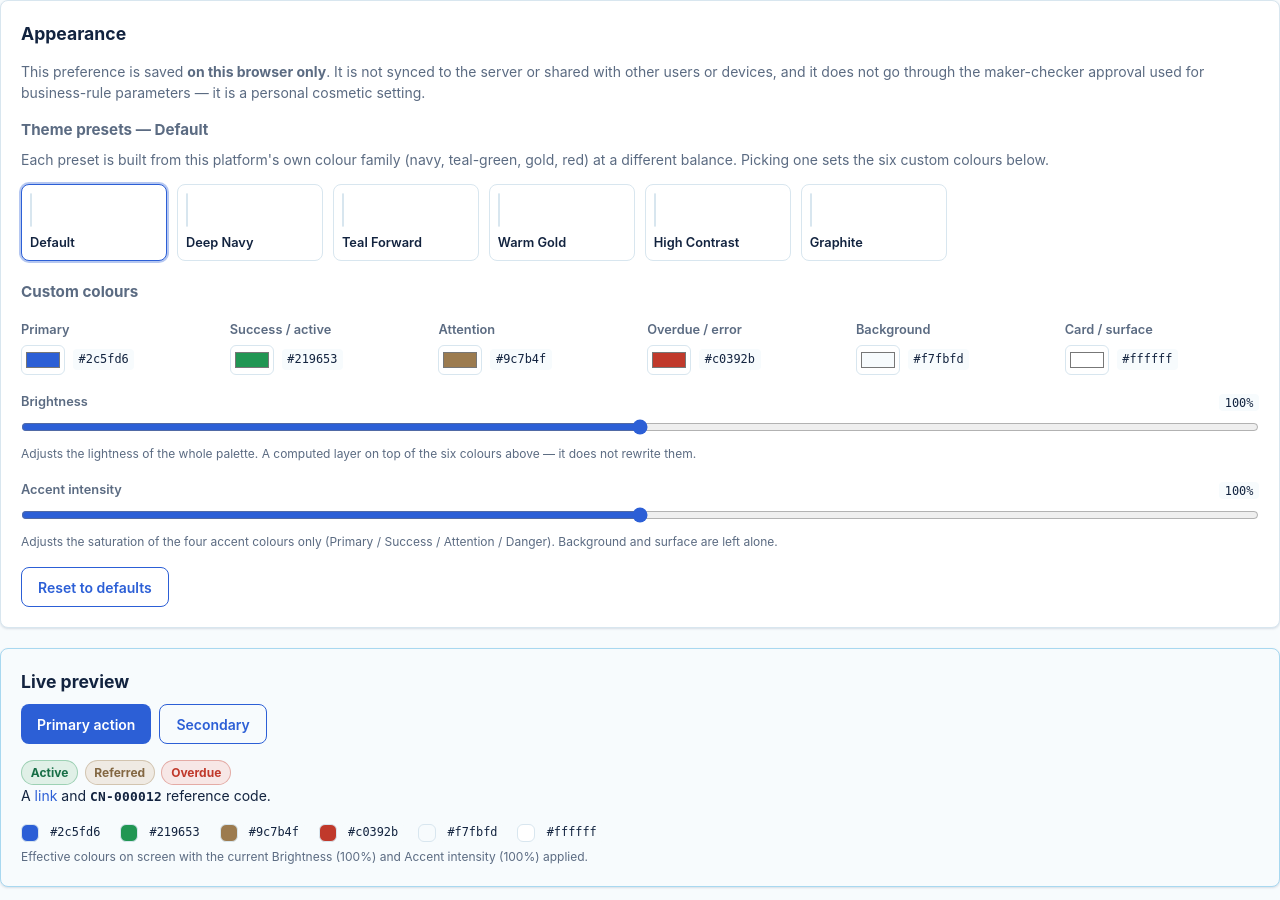
it: Step 17 — persistence & reset › Reset to defaults restores the Default preset AND both sliders to 100%
Click the radio button with test id "preset-warm-gold" at (562, 222), box [489, 184, 635, 261]
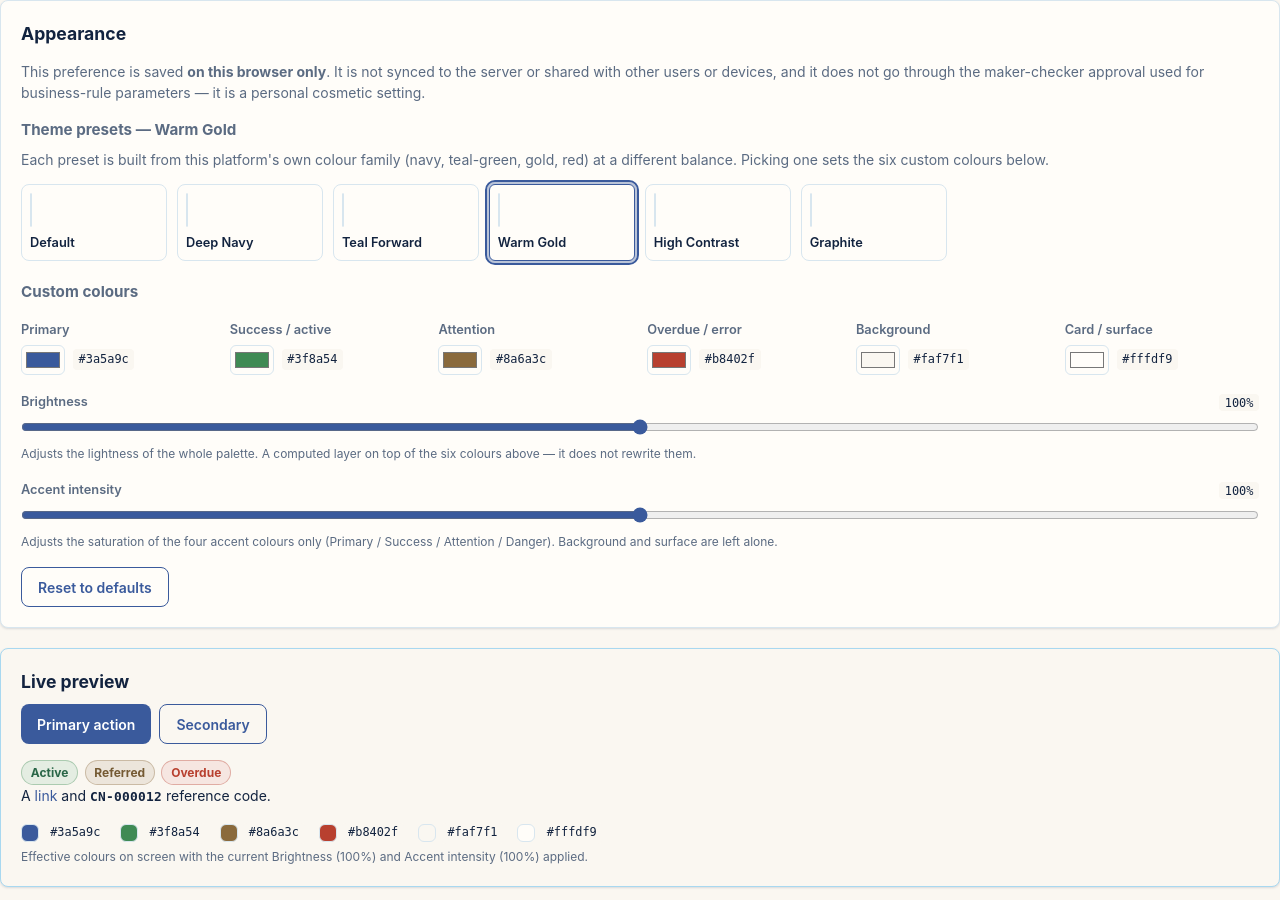
Set the slider with test id "appearance-brightness" to "80" at (233, 427), box [21, 419, 1259, 435]
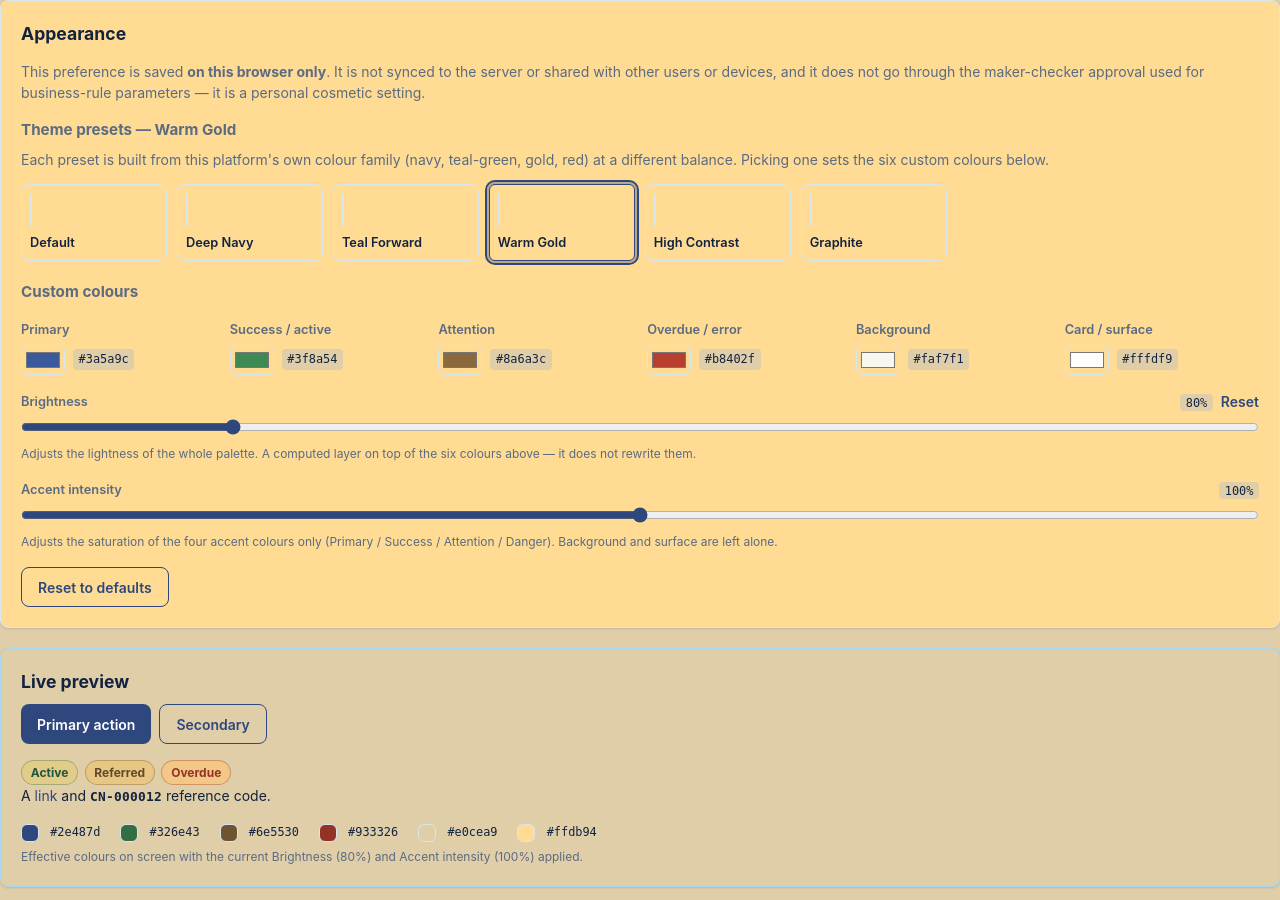
Set the slider with test id "appearance-accent-intensity" to "130" at (1098, 515), box [21, 507, 1259, 523]
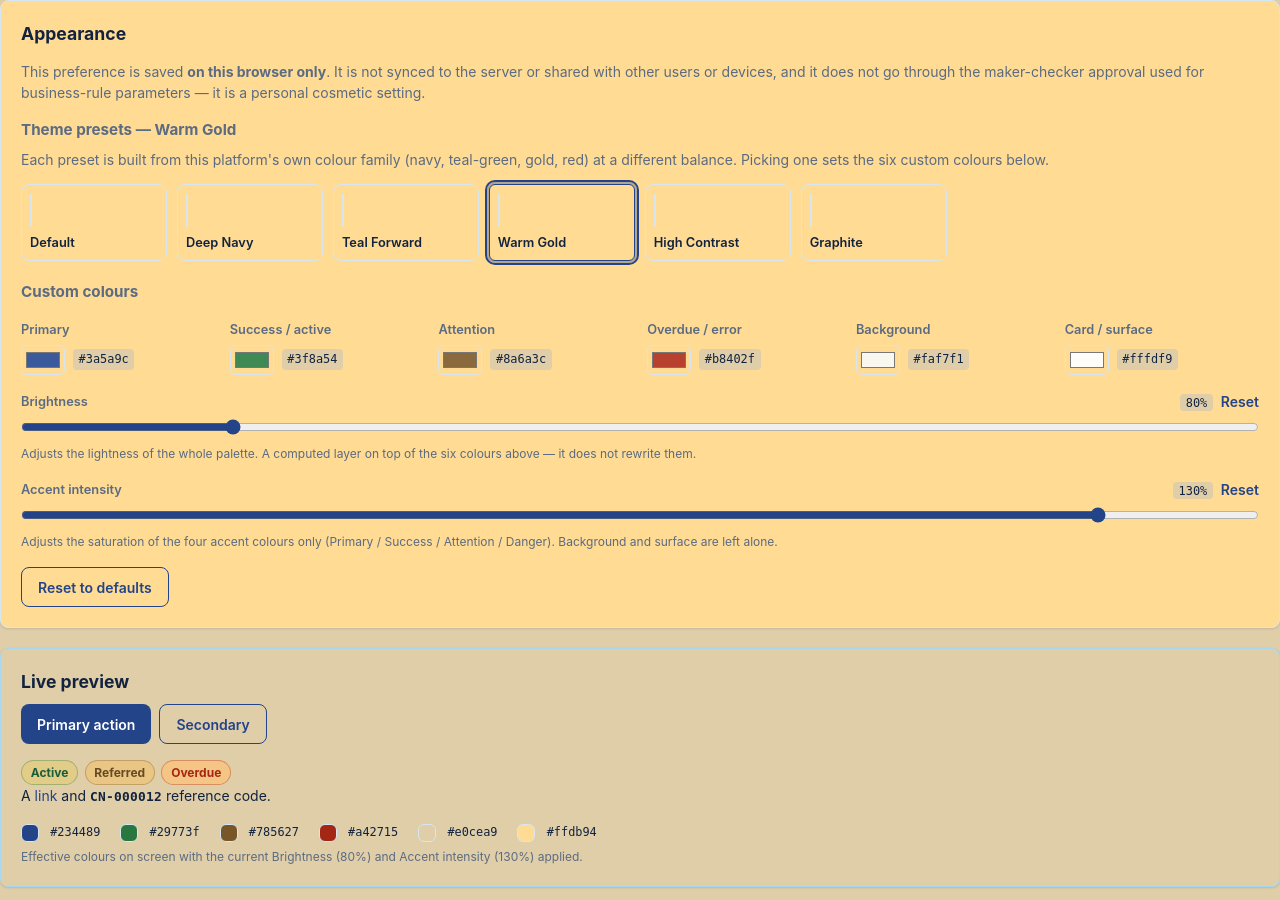
Click the button with test id "appearance-reset" at (95, 587), box [21, 567, 169, 607]
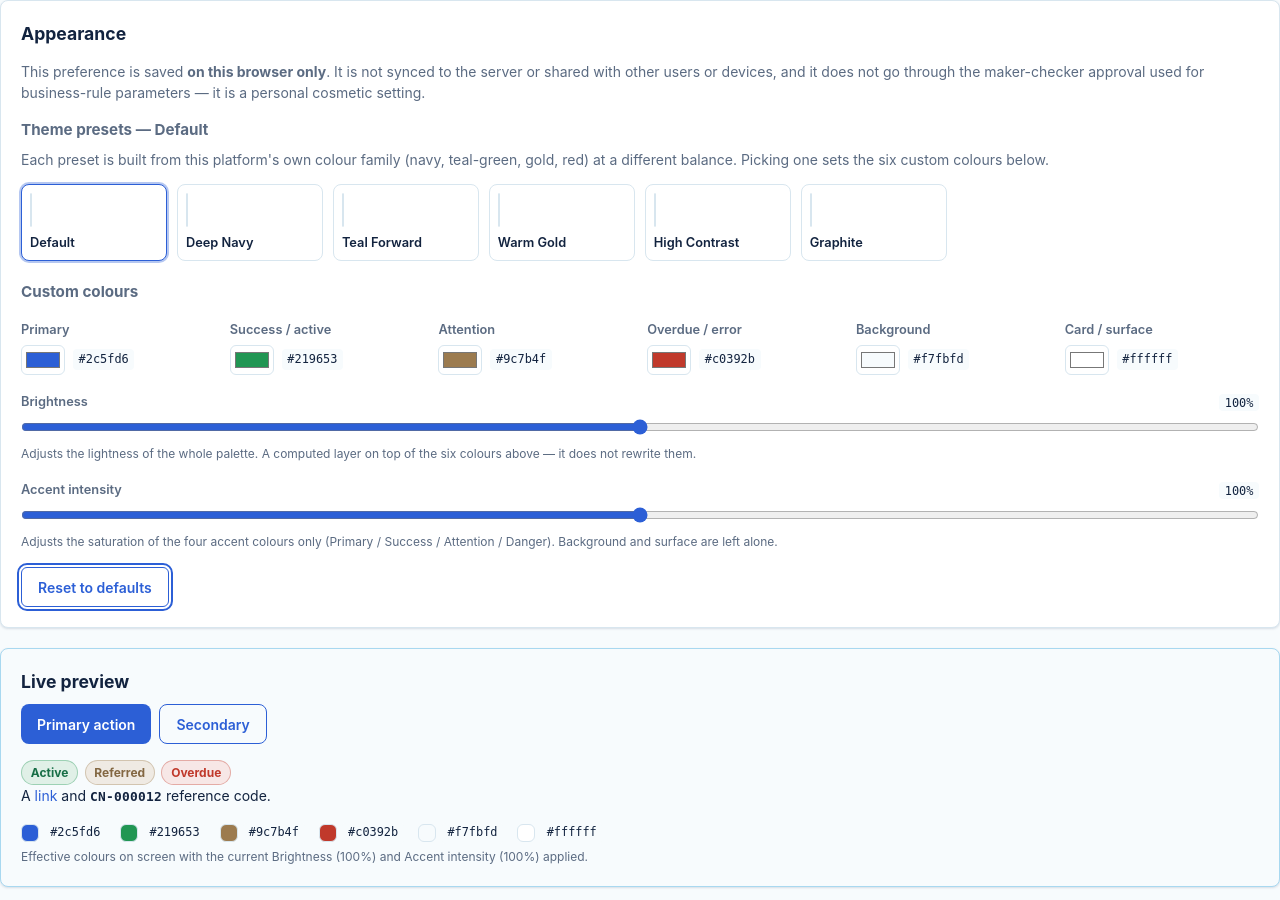
Now the text "#9c7b4f" below "Success / active" is shown, box [496, 352, 546, 366]
Now the text "#c0392b" below "Overdue / error" is shown, box [705, 352, 755, 366]
Now the text "#f7fbfd" below "Overdue / error" is shown, box [914, 352, 964, 366]
